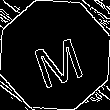M_N: (25, 23, 85, 87)
